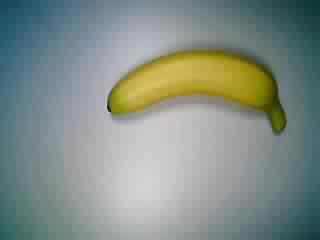banana: (99, 45, 293, 137)
